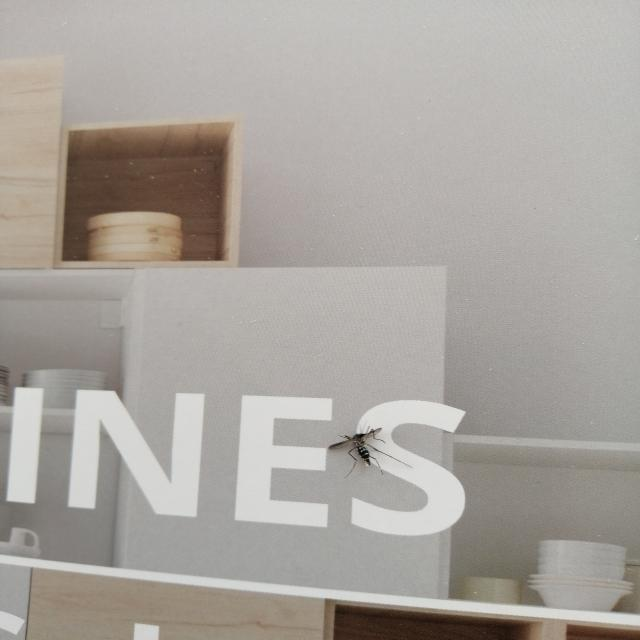albopictus: (324, 417, 422, 484)
